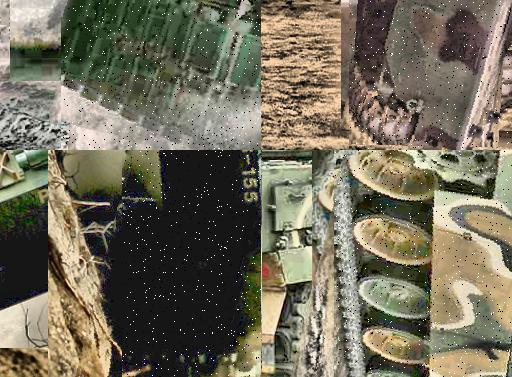tanks: (336, 151, 512, 377), (63, 1, 262, 151), (146, 151, 262, 377), (351, 1, 512, 151)
